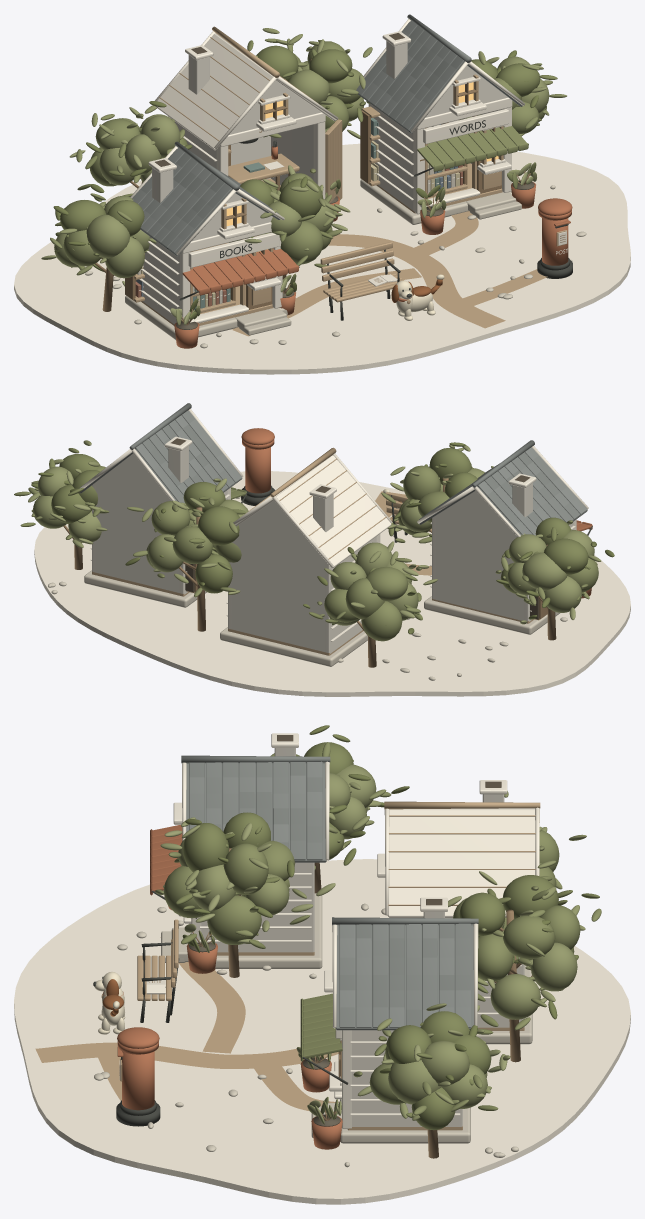
File: paper-town.glb
3 renders of one model, top to bottom at view 1: azimuth 30°, elevation 25°; view 2: azimuth 150°, elevation 25°; view 3: azimuth 270°, elevation 25°, orthographic. The views are drawn at different scales.
Visible parts, largest first — view 1: ground, garden, reading, writing, works, guestbook, dog; view 2: ground, garden, works, reading, writing, guestbook; view 3: ground, garden, writing, reading, works, guestbook, dog.
Boxes of the visible parts, box(x1,y1,x2,y2) form: ground: box(14, 143, 630, 374); garden: box(41, 28, 586, 348); reading: box(125, 141, 403, 339); writing: box(356, 14, 528, 224); works: box(155, 26, 342, 203); guestbook: box(537, 198, 572, 278); dog: box(391, 280, 432, 313); ground: box(34, 471, 630, 696); garden: box(14, 440, 614, 680); works: box(220, 447, 392, 666); reading: box(385, 440, 592, 634); writing: box(79, 403, 247, 607); guestbook: box(241, 428, 274, 505); ground: box(14, 859, 630, 1204); garden: box(94, 725, 601, 1167); writing: box(300, 897, 478, 1143); reading: box(137, 733, 330, 1022); works: box(377, 780, 540, 1044); guestbook: box(116, 1027, 160, 1126); dog: box(93, 972, 124, 1025).
Size of the model in its own units: 11.29 by 3.32 by 8.66.
